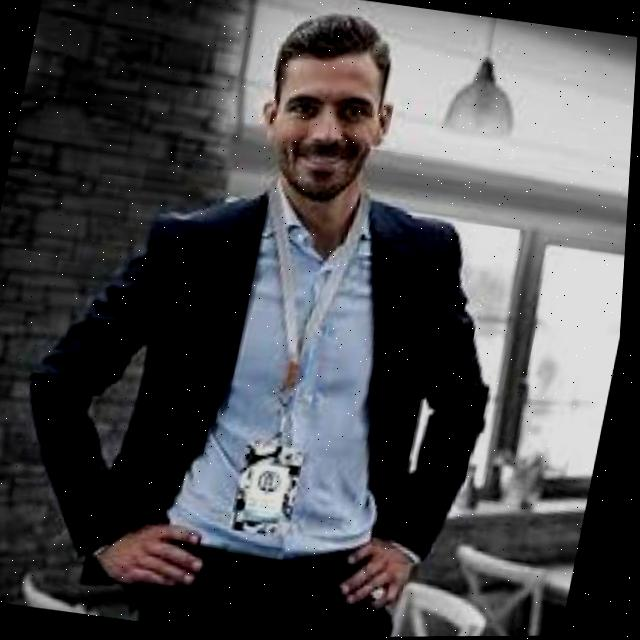id_card: (203, 182, 380, 553)
